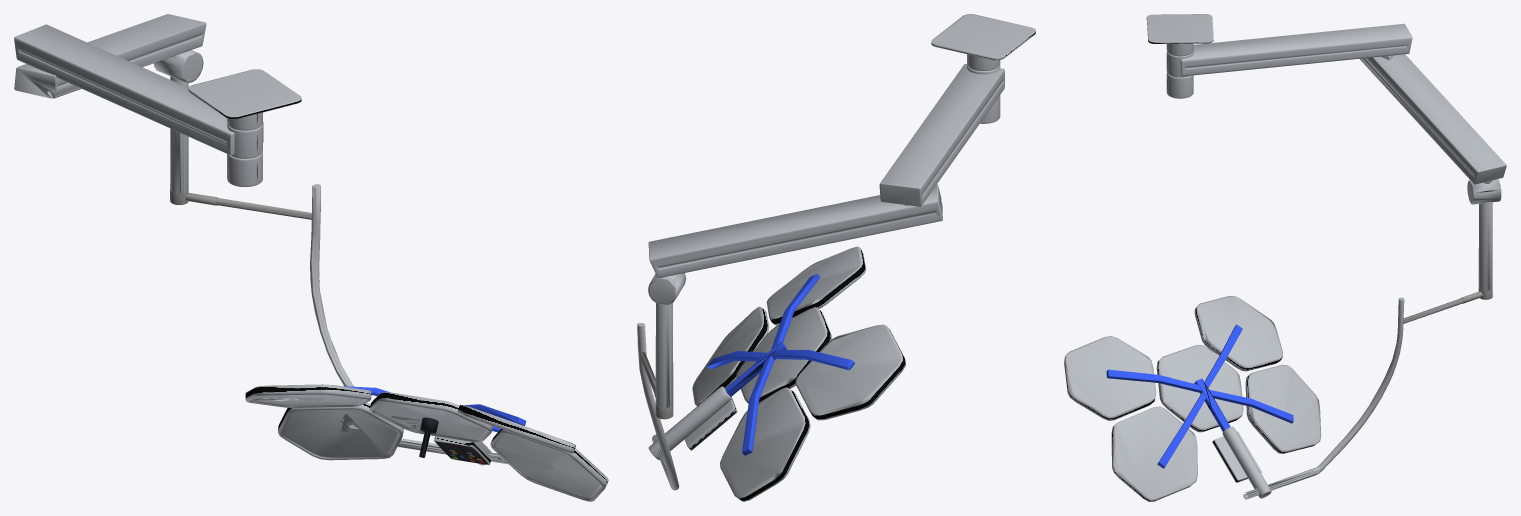
File: BSL03.fbx
The picture shows the model from 3 angles, left to right: view 1: azimuth 30°, elevation 25°; view 2: azimuth 150°, elevation 25°; view 3: azimuth 270°, elevation 25°; orthographic projection. The views are drawn at different scales.
Visible parts, largest first — view 1: BSL03; view 2: BSL03; view 3: BSL03.
Boxes of the visible parts, x1,y1,x2,y2 form: BSL03: (14,14,608,501); BSL03: (637,14,1035,501); BSL03: (1064,14,1506,501).
Size of the model in its own units: 119 by 130 by 144.
5 materials, 5 textured.
